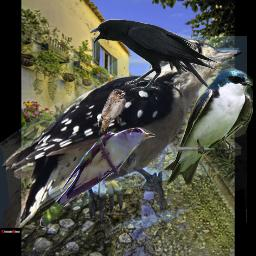Crow: (89, 19, 219, 91)
Cuckoo: (40, 127, 155, 227)
Swallow: (162, 68, 253, 187), (96, 89, 126, 136)
Woodpecker: (0, 36, 247, 228)
